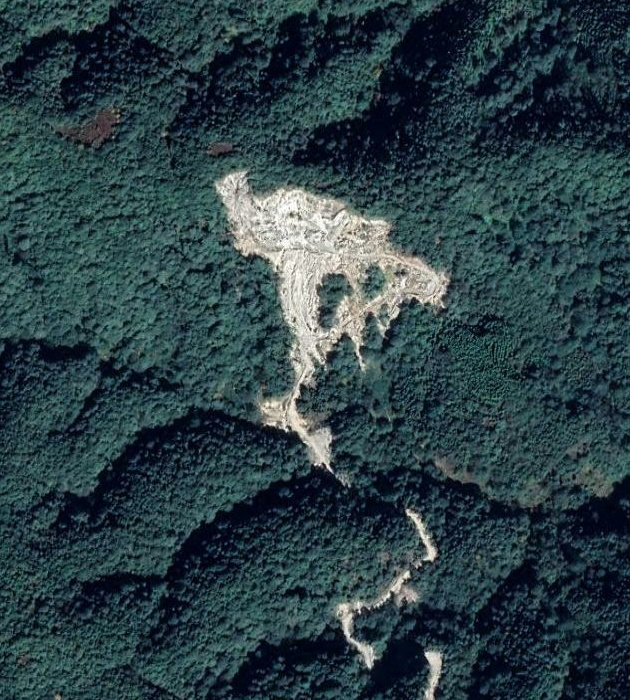slope: (207, 168, 455, 477)
